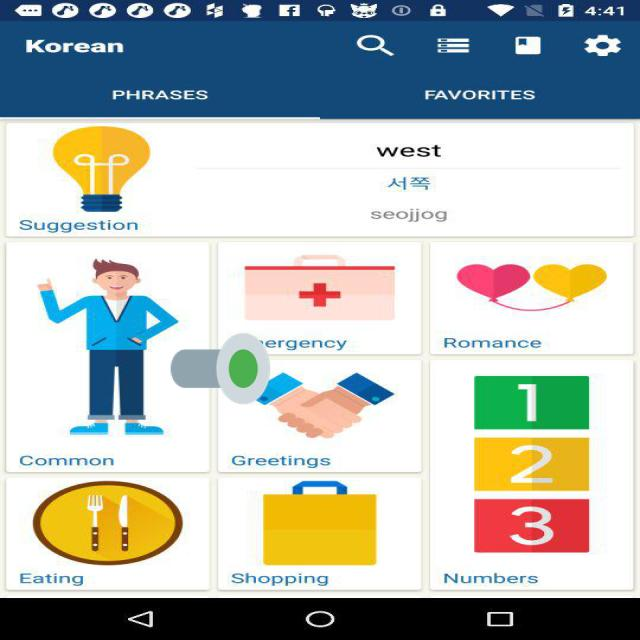social proof: (171, 302, 270, 434)
